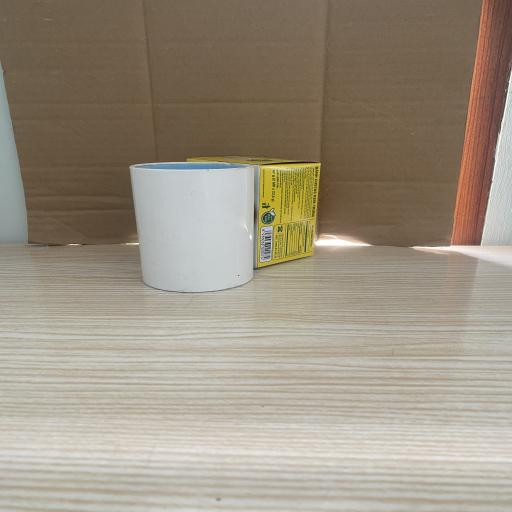custas: (186, 156, 320, 268)
